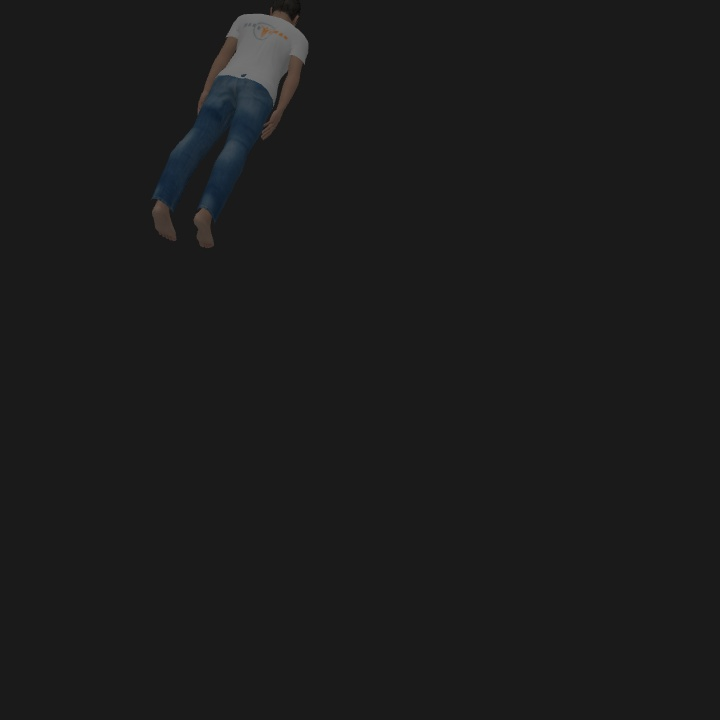victim: (153, 3, 309, 249)
